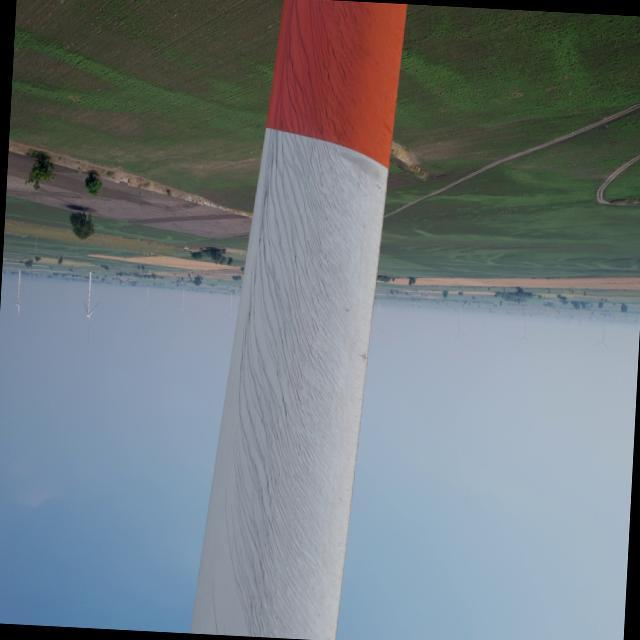Dirt: (188, 0, 410, 640)
